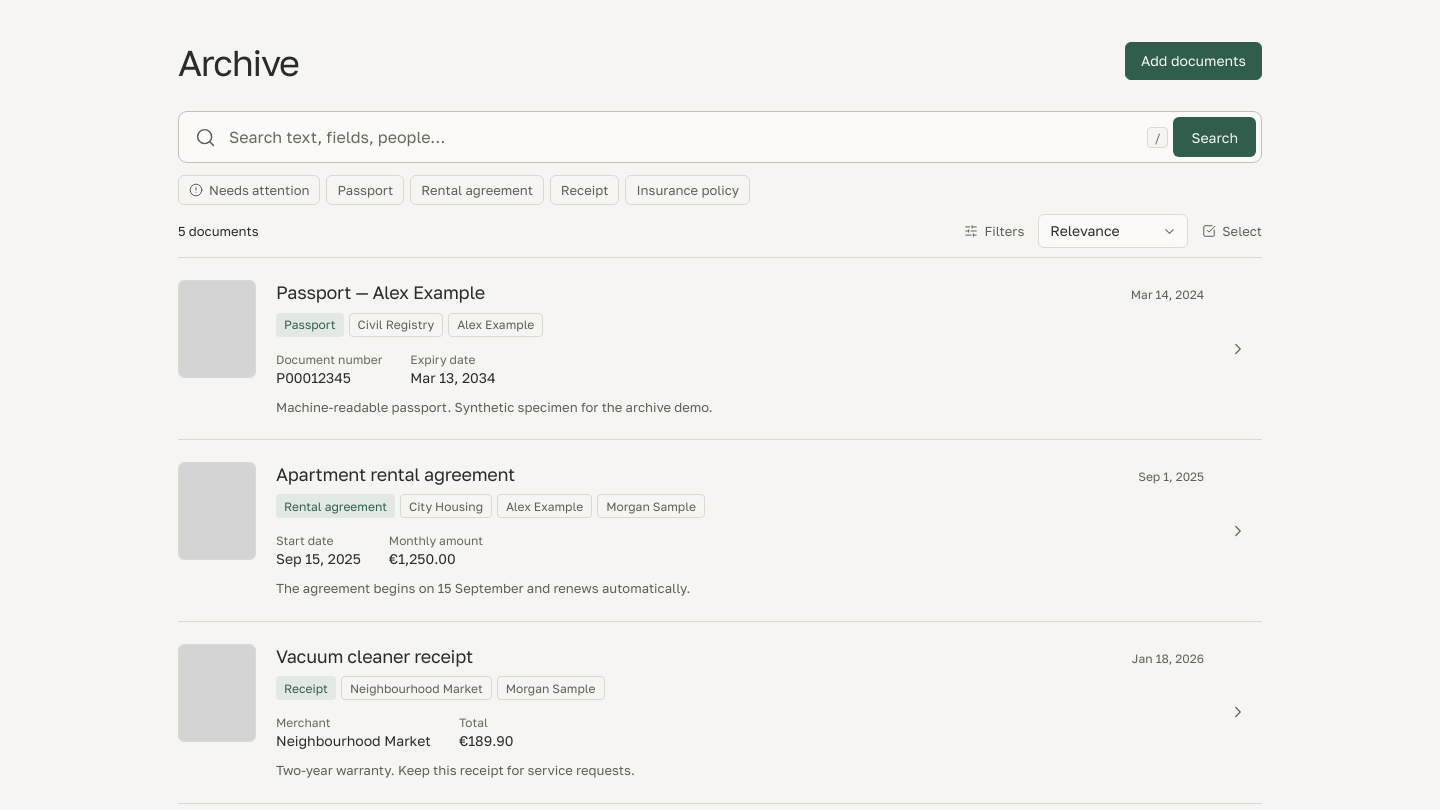
ArchivePage selection state › starts compact: a hint and no actions until something is selected
Later steps or results of the test are not shown.
Click the button "Select": click(1232, 231) [1202, 215, 1262, 247]
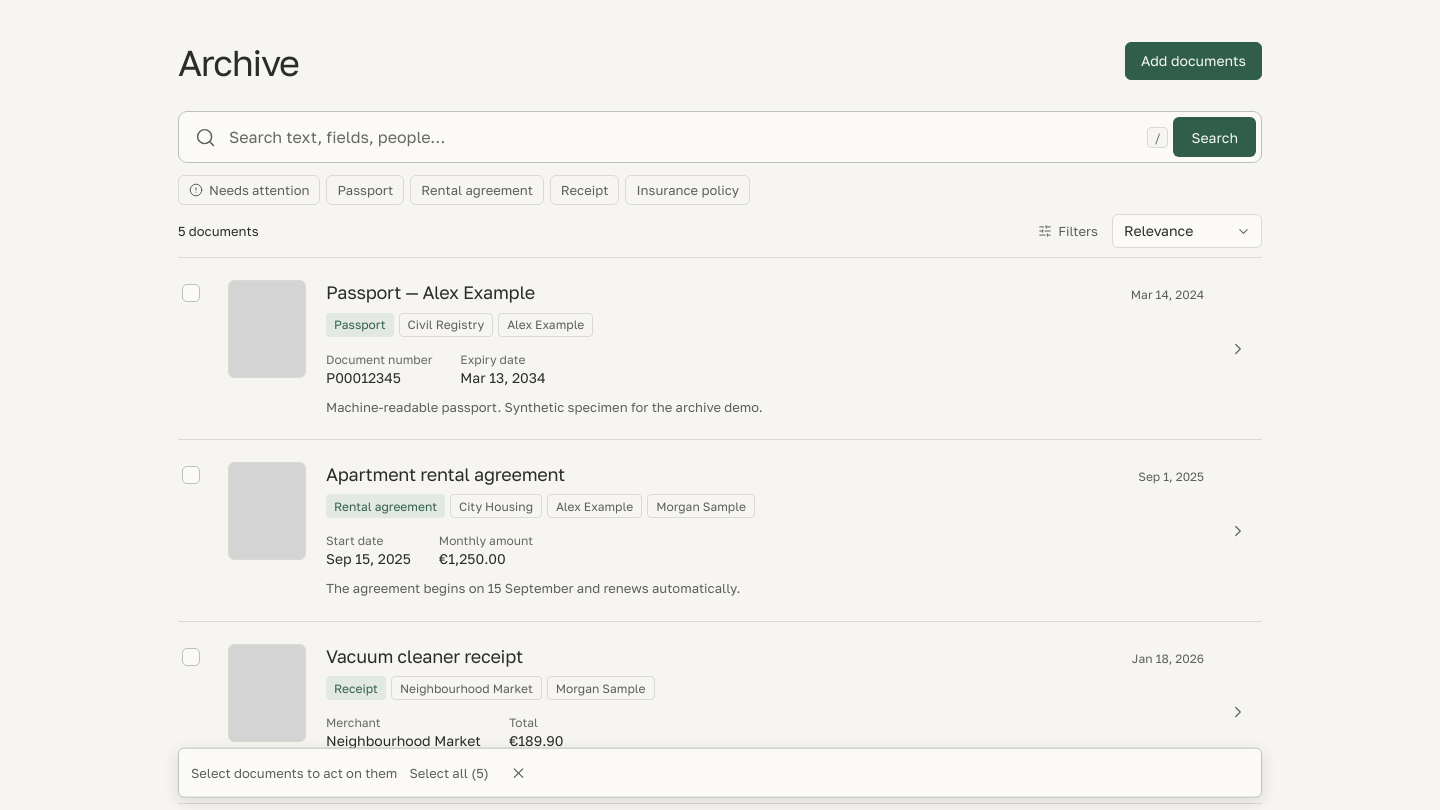
expect the text "Select documents to act on them" is shown: met, box [191, 765, 397, 781]
Click the checkbox named "Select “Passport — Alex Example”": click(191, 293) [182, 284, 200, 302]
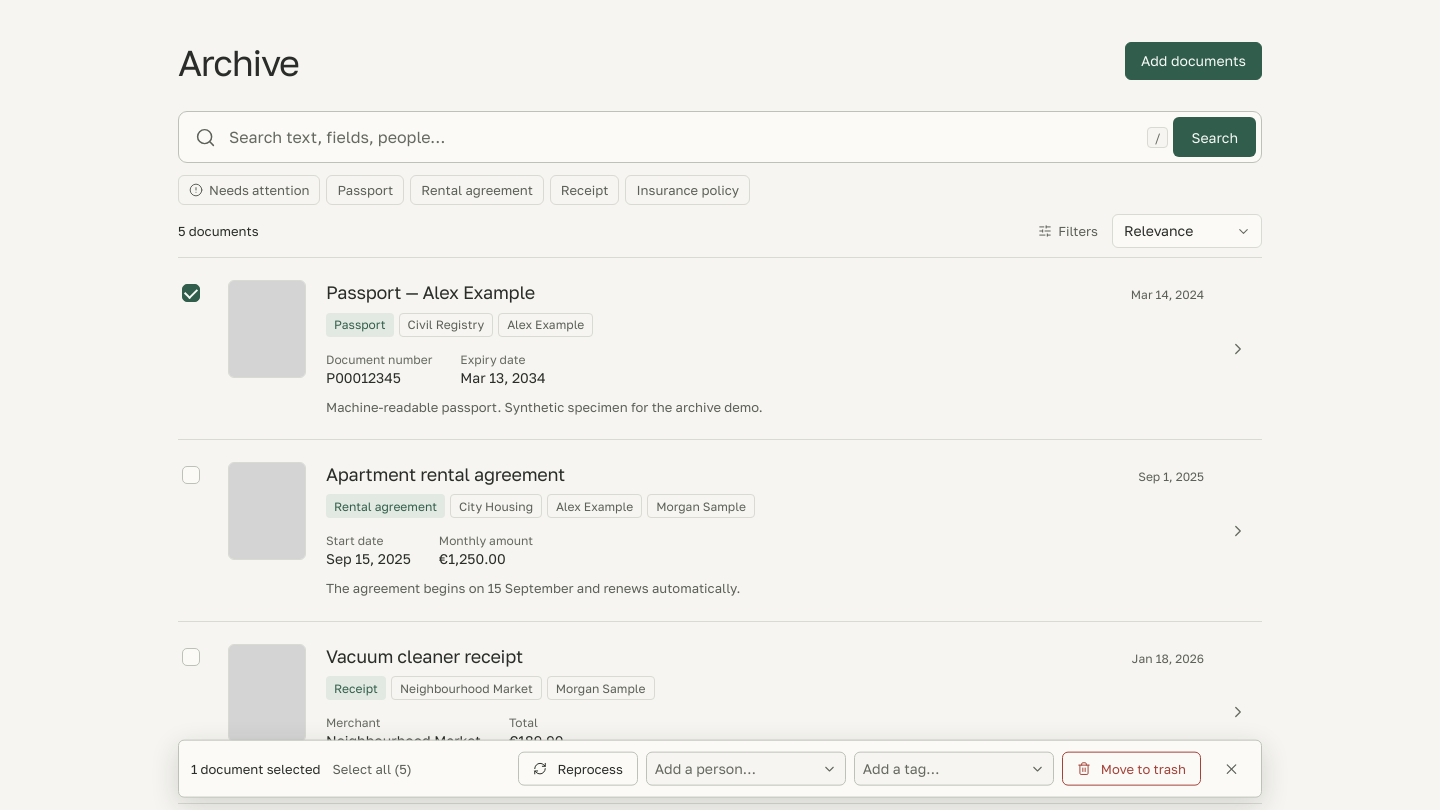
expect the text "1 document selected" is shown: met, box [191, 761, 320, 777]
expect the button "Reprocess" is enabled: met, box [518, 752, 638, 786]
expect the button "Move to trash" is enabled: met, box [1062, 752, 1201, 786]
